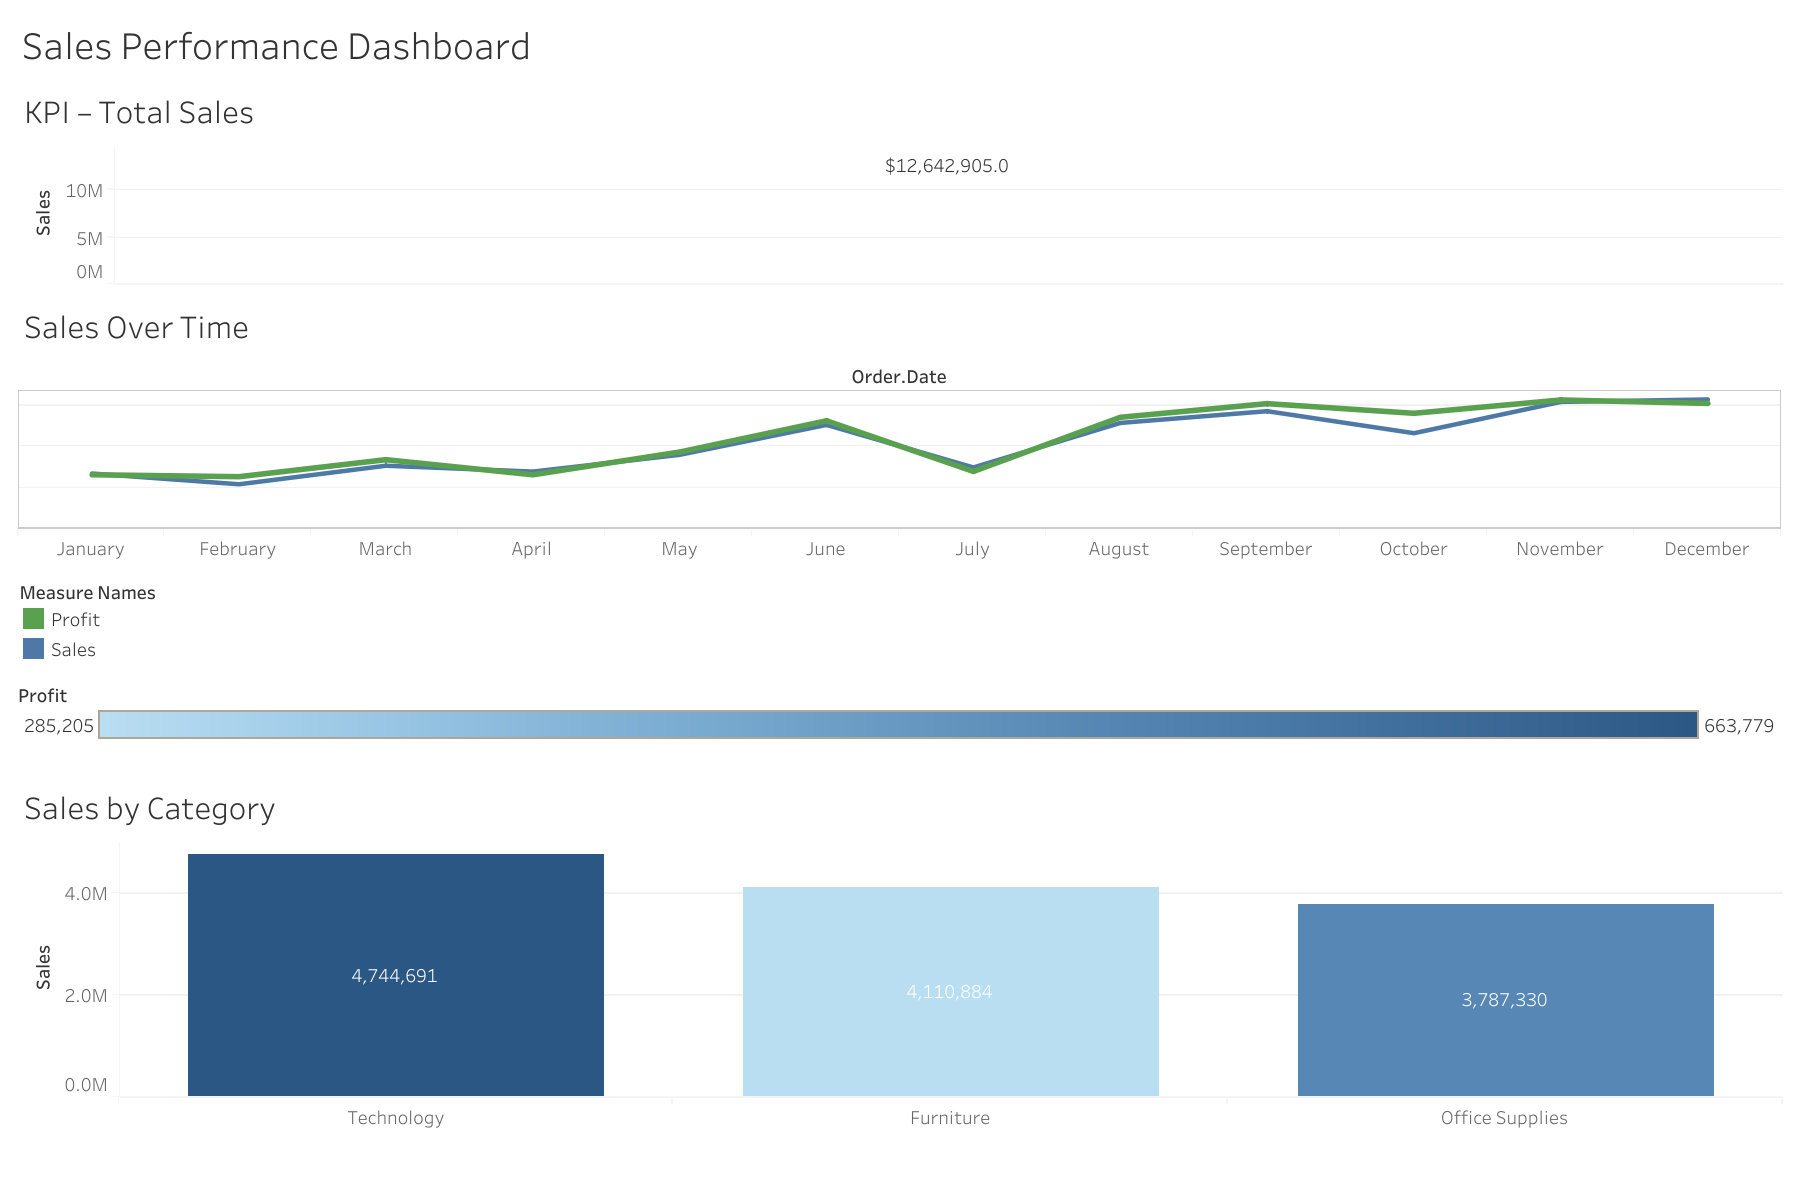

Layout of this report page (visuals, bound fields, positions):
{"tool":"tableau","page":{"name":"Sales Performance Dashboard","canvas":[1000,1000],"units":"permille","ordinal":0},"visuals":[{"type":"title","box":[6.6,9.3,986.9,49]},{"type":"worksheet","title":"KPI – Total Sales","mark":"Text","rows":["Sales"],"box":[6.6,58.3,986.9,166.9]},{"type":"worksheet","title":"Sales Over Time","mark":"Automatic","rows":["Sales","Profit"],"cols":["Order.Date"],"box":[6.6,225.2,986.9,215.9]},{"type":"legend","title":"Sales Over Time","param":"[federated.1fmsklp1tpjjfx13rg82y059i15x].[:Measure Names]","box":[6.6,441.1,986.9,77]},{"type":"legend","title":"Sales by Category","param":"[federated.1fmsklp1tpjjfx13rg82y059i15x].[sum:Profit:qk]","box":[6.6,518.1,986.9,75.8]},{"type":"worksheet","title":"Sales by Category","mark":"Automatic","rows":["Sales"],"cols":["Category"],"box":[6.6,593.9,986.9,374.7]}]}

Visuals, with their boxes on the dashboard's canvas, which has no fixed pixel size, in thousandths of its width and height (x1, y1, x2, y2). These are canvas units, not pixel positions in the 1799x1199 screenshot, which may show the page scaled, cropped or inside an application window:
title: {"left": 7, "top": 9, "right": 994, "bottom": 58}
"KPI – Total Sales" worksheet (Text marks): {"left": 7, "top": 58, "right": 994, "bottom": 225}
"Sales Over Time" worksheet: {"left": 7, "top": 225, "right": 994, "bottom": 441}
"Sales Over Time" legend: {"left": 7, "top": 441, "right": 994, "bottom": 518}
"Sales by Category" legend: {"left": 7, "top": 518, "right": 994, "bottom": 594}
"Sales by Category" worksheet: {"left": 7, "top": 594, "right": 994, "bottom": 969}
